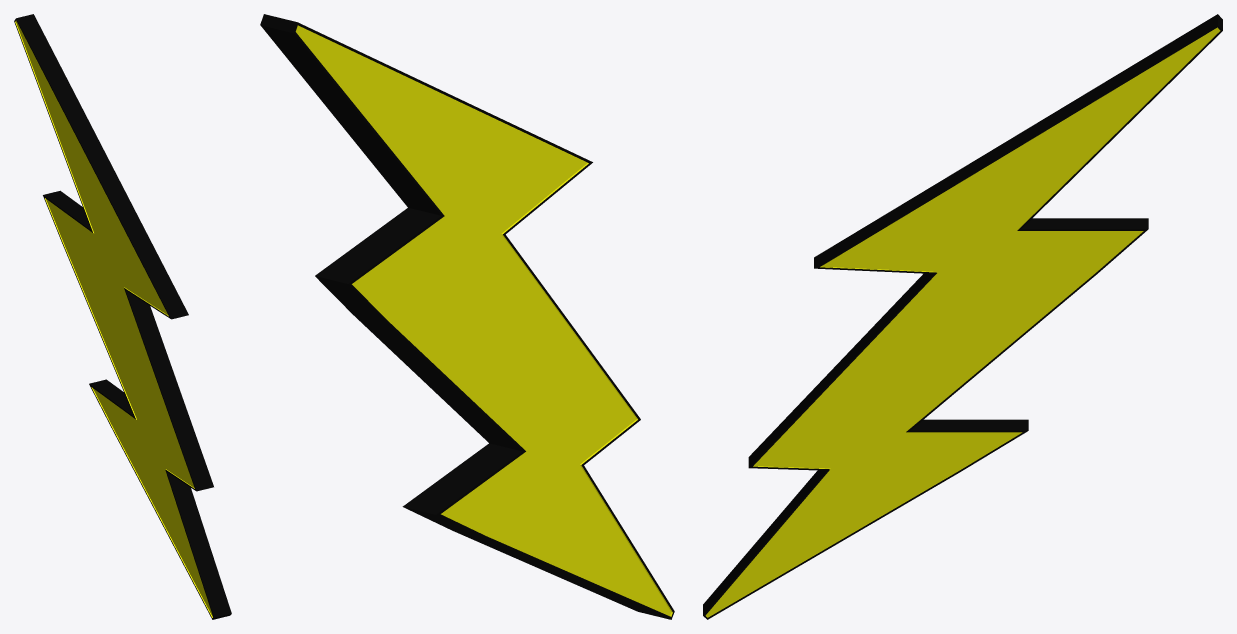
The model's file is Stun.fbx.
3 views of the same model, side by side, from view 1: azimuth 30°, elevation 25°; view 2: azimuth 150°, elevation 25°; view 3: azimuth 270°, elevation 25° (orthographic). The views are drawn at different scales.
Parts seen in each view (by area): view 1: Cube; view 2: Cube; view 3: Cube.
Part boxes in pixels (bbox=[...]): Cube: bbox=[14, 14, 231, 619]; Cube: bbox=[260, 14, 674, 619]; Cube: bbox=[703, 14, 1222, 619].
Bounding box in the file's own units: 14.67 × 363 × 287.
